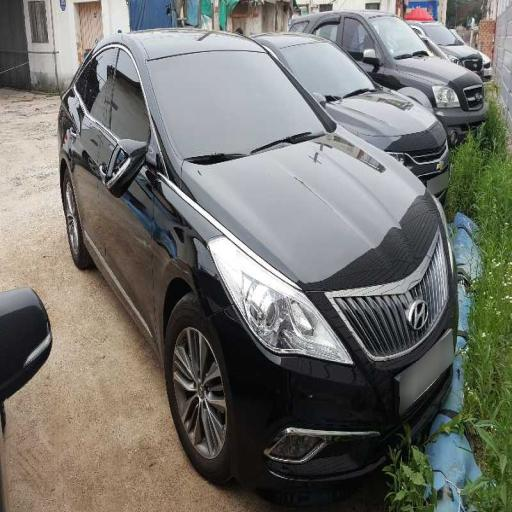broken: (175, 206, 412, 486)
normal: (56, 33, 460, 473)
